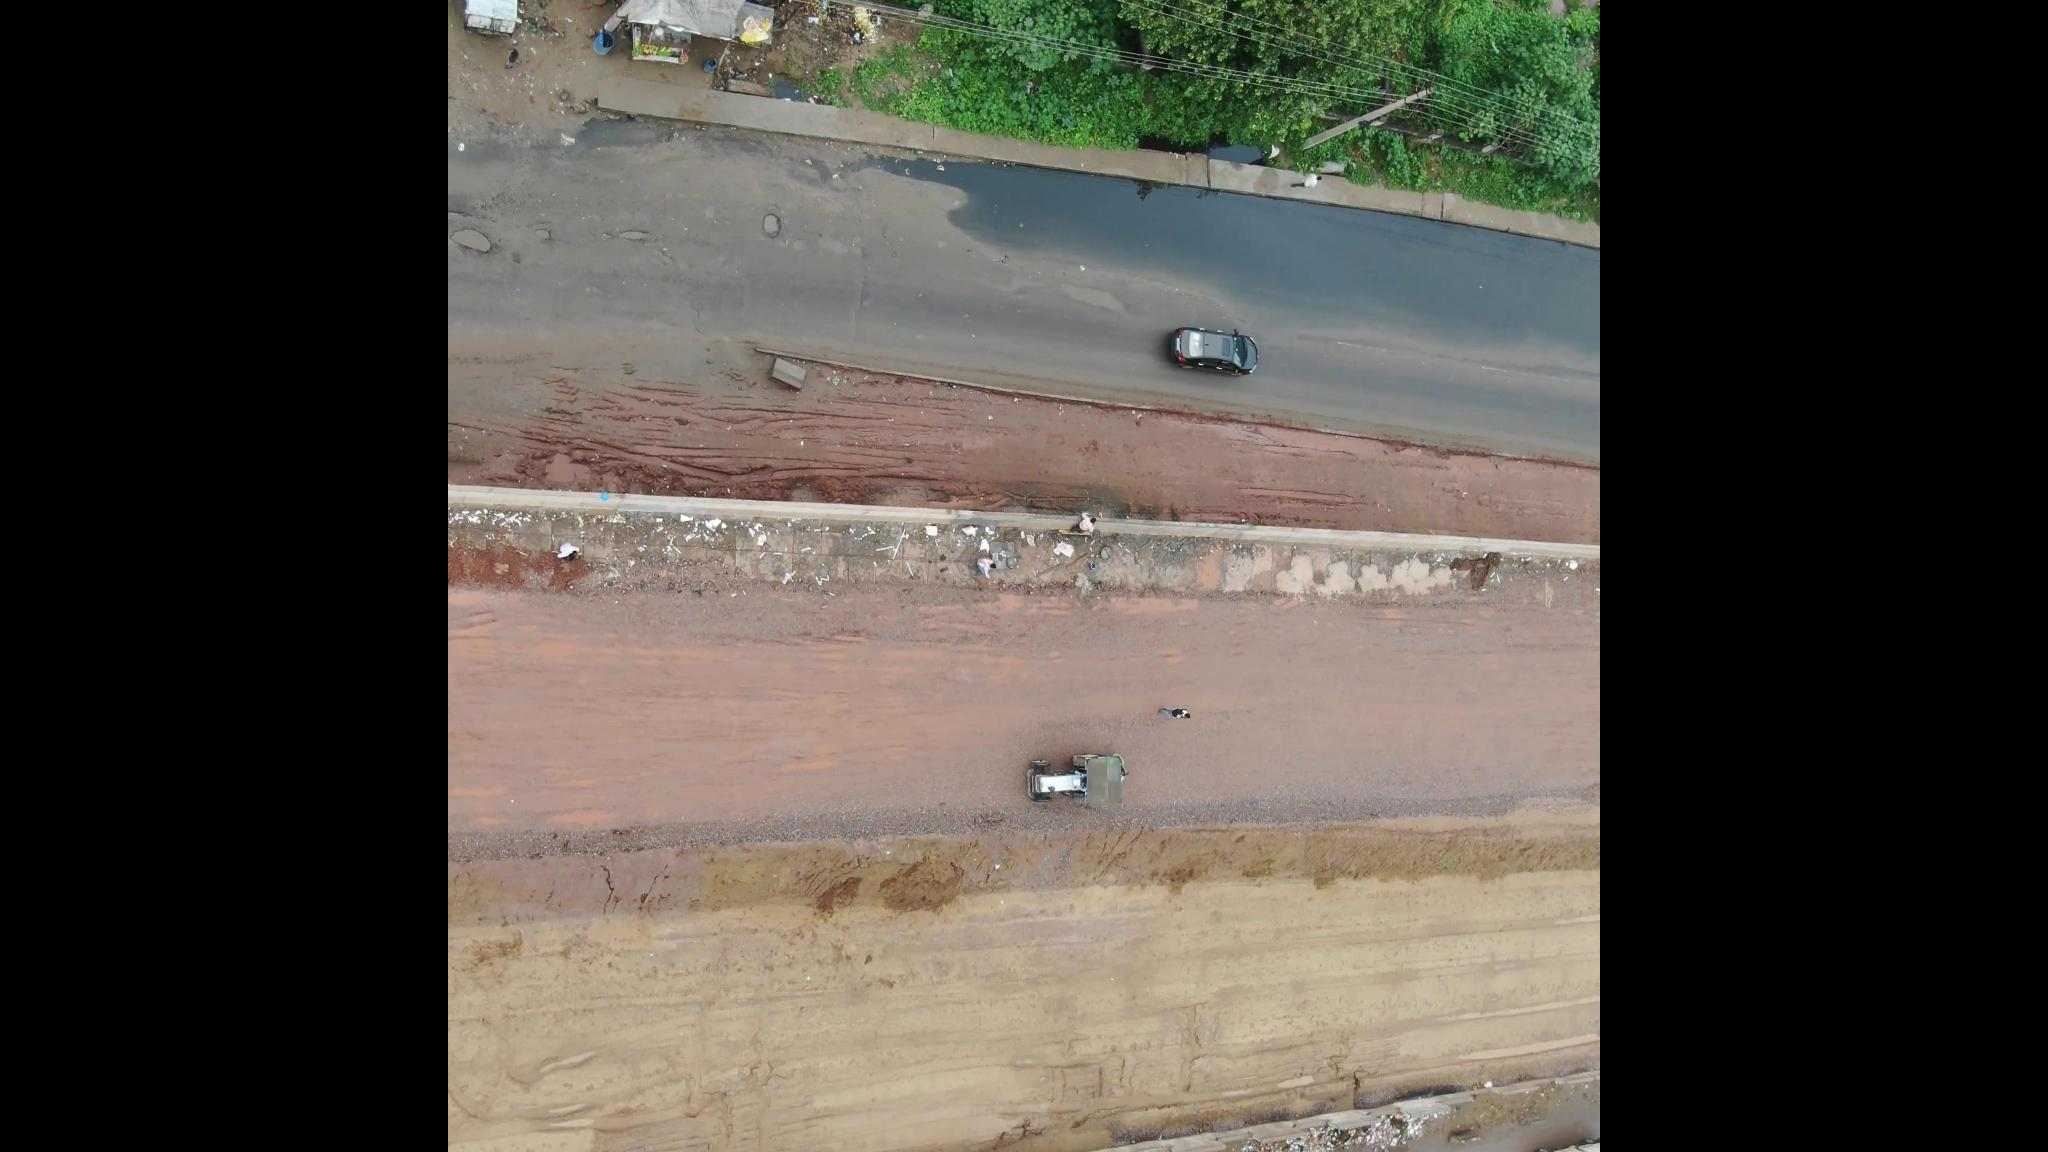Potholes: (452, 191, 572, 269), (1039, 262, 1138, 324), (747, 181, 814, 246), (587, 217, 677, 257)
